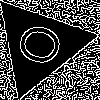O: (14, 20, 74, 72)
